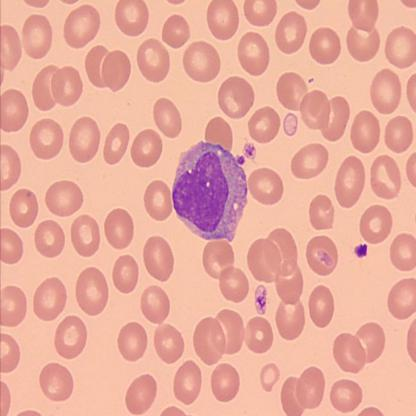Monocyte: (170, 139, 258, 245)
